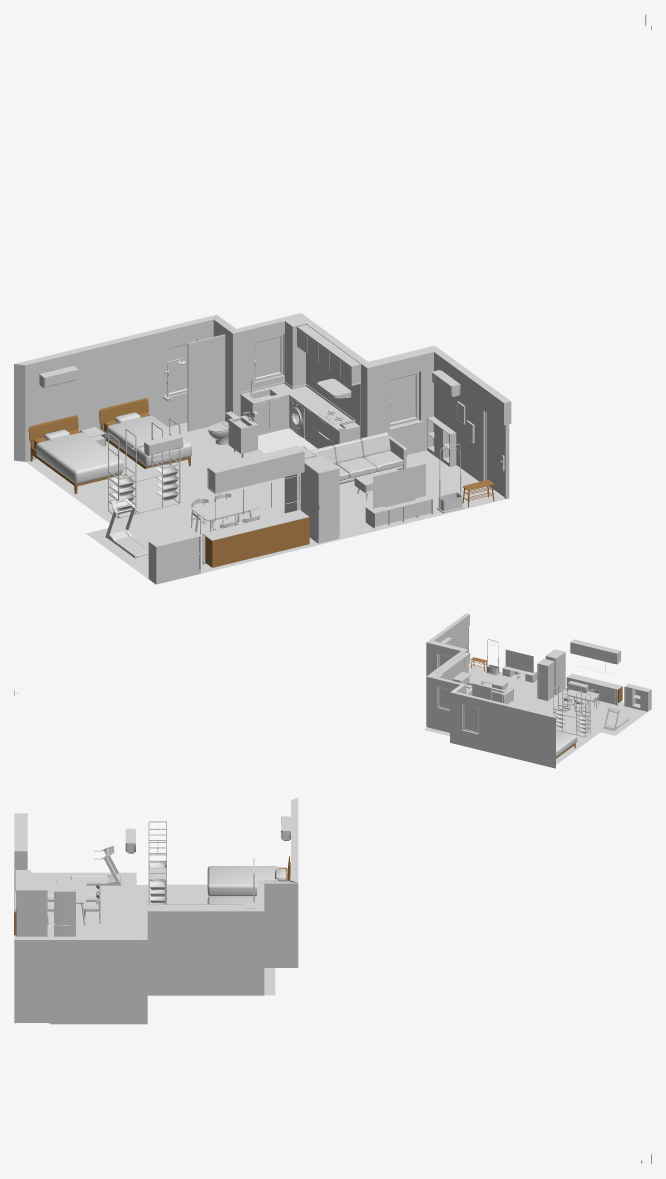
Rendered from house9.glb.
3 renders of one model, top to bottom at view 1: azimuth 30°, elevation 25°; view 2: azimuth 150°, elevation 25°; view 3: azimuth 270°, elevation 25°, orthographic. The views are drawn at different scales.
Visible parts, largest first — view 1: 物件_99, 地毯, 物件_95, 地毯_1, 物件_94, 立方体_3, 衣柜框, 厨房台面, 衣柜, 立方体, 沙发, 立方体_1_2 (+28 smaller); view 2: 物件_99, 地毯, 物件_102, 衣柜框, 地毯_1, 电视_ok, 立方体_1, 餐厅橱, 冰箱, 物件_95, 物件_369, 餐厅橱子 (+10 smaller); view 3: 物件_103, 物件_94, 地毯, 物件_90, 门, 衣柜, 立方体_1_2, 物件_369, 衣柜框, 冰箱, 物件_101, 立方体_1 (+2 smaller).
Part boxes in pixels (x1,y1,x2,y2): 物件_99: (14, 318, 214, 461); 地毯: (26, 442, 308, 570); 物件_95: (360, 345, 434, 454); 地毯_1: (339, 450, 505, 535); 物件_94: (434, 346, 490, 481); 立方体_3: (187, 334, 225, 431); 衣柜框: (108, 418, 180, 518); 厨房台面: (240, 381, 355, 448); 衣柜: (300, 455, 339, 543); 立方体: (205, 517, 309, 567); 沙发: (311, 432, 406, 484); 立方体_1_2: (36, 432, 123, 484); 物件_99: (450, 692, 555, 768); 地毯: (537, 694, 621, 764); 物件_102: (426, 676, 461, 732); 衣柜框: (553, 684, 590, 737); 地毯_1: (468, 664, 537, 705); 电视_ok: (502, 650, 537, 683); 立方体_1: (570, 639, 620, 664); 餐厅橱: (566, 673, 622, 705); 冰箱: (537, 659, 554, 701); 物件_95: (426, 641, 468, 685); 物件_369: (592, 706, 648, 735); 餐厅橱子: (624, 683, 651, 711); 物件_103: (147, 908, 264, 995); 物件_94: (50, 936, 147, 1024); 地毯: (14, 884, 208, 936); 物件_90: (257, 880, 298, 967); 门: (14, 959, 50, 1023); 衣柜: (15, 881, 48, 936); 立方体_1_2: (207, 866, 278, 895); 物件_369: (31, 872, 136, 896); 衣柜框: (148, 821, 166, 904); 冰箱: (54, 883, 75, 936); 物件_101: (14, 936, 50, 959); 立方体_1: (14, 813, 27, 869).
Bounding box in the file's own units: 28.2 × 3.14 × 20.86.
